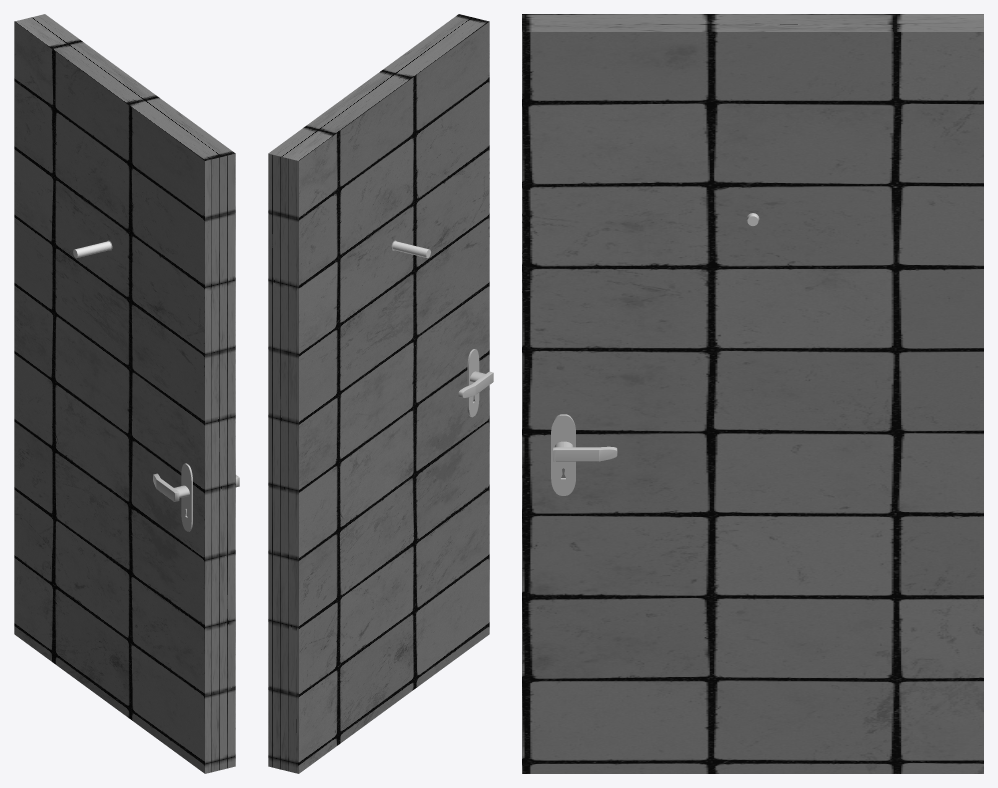
File: Porta.fbx
The picture shows the model from 3 angles, left to right: view 1: azimuth 30°, elevation 25°; view 2: azimuth 150°, elevation 25°; view 3: azimuth 270°, elevation 25°; orthographic projection. The views are drawn at different scales.
Parts seen in each view (by area): view 1: porta-banheiro.003, porta-banheiro.002, maçaneta-banheiro; view 2: porta-banheiro.003, porta-banheiro.002, maçaneta-banheiro; view 3: porta-banheiro.003, porta-banheiro.002, maçaneta-banheiro.
Part boxes in pixels (left/top/right/bottom): porta-banheiro.003: left=14, top=14, right=235, bottom=773; porta-banheiro.002: left=181, top=463, right=192, bottom=531; maçaneta-banheiro: left=153, top=473, right=239, bottom=501; porta-banheiro.003: left=268, top=14, right=489, bottom=773; porta-banheiro.002: left=467, top=349, right=479, bottom=417; maçaneta-banheiro: left=458, top=371, right=493, bottom=397; porta-banheiro.003: left=522, top=14, right=983, bottom=773; porta-banheiro.002: left=551, top=414, right=575, bottom=495; maçaneta-banheiro: left=553, top=441, right=617, bottom=461.
Bounding box in the file's own units: 137 × 984 × 555.
